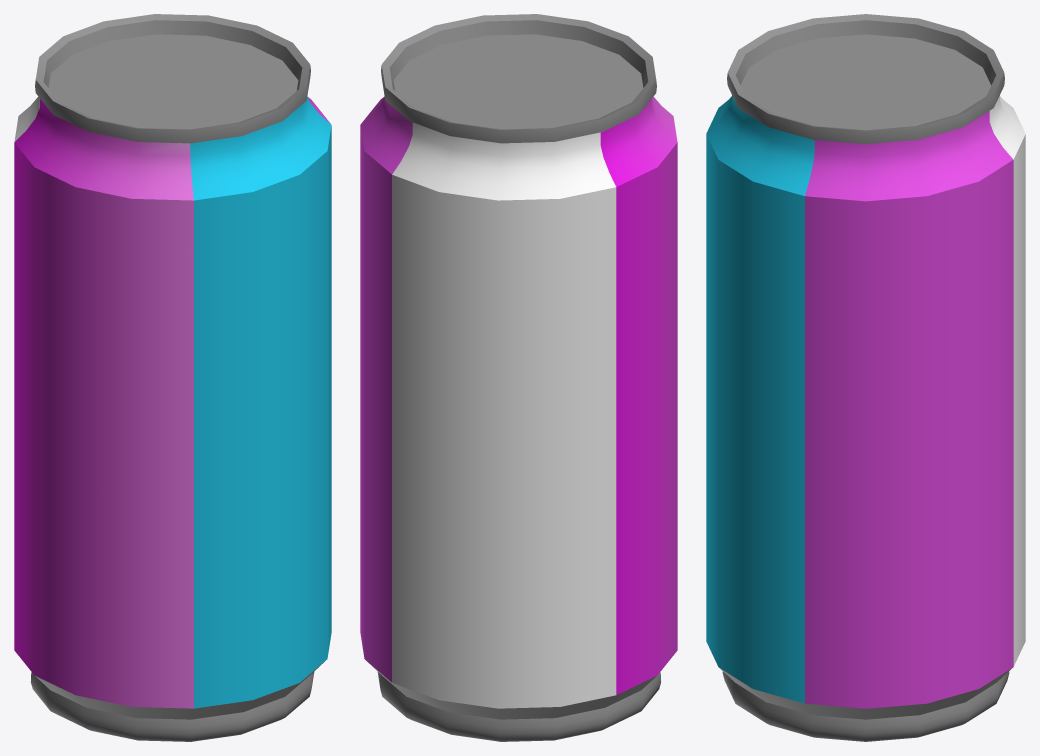
The model's file is can.fbx.
3 views of the same model, side by side, from view 1: azimuth 30°, elevation 25°; view 2: azimuth 150°, elevation 25°; view 3: azimuth 270°, elevation 25° (orthographic).
Parts seen in each view (by area): view 1: can; view 2: can; view 3: can.
Boxes of the visible parts, left/top/right/bottom form: can: left=14, top=14, right=331, bottom=741; can: left=360, top=14, right=677, bottom=741; can: left=706, top=14, right=1025, bottom=741.
Bounding box in the file's own units: 13.11 × 27.71 × 13.11.
Materials: 1 (1 with a texture image).
